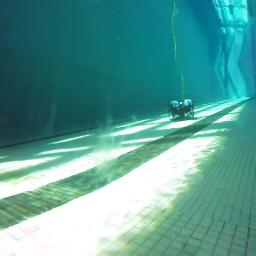front: (168, 99, 195, 122)
